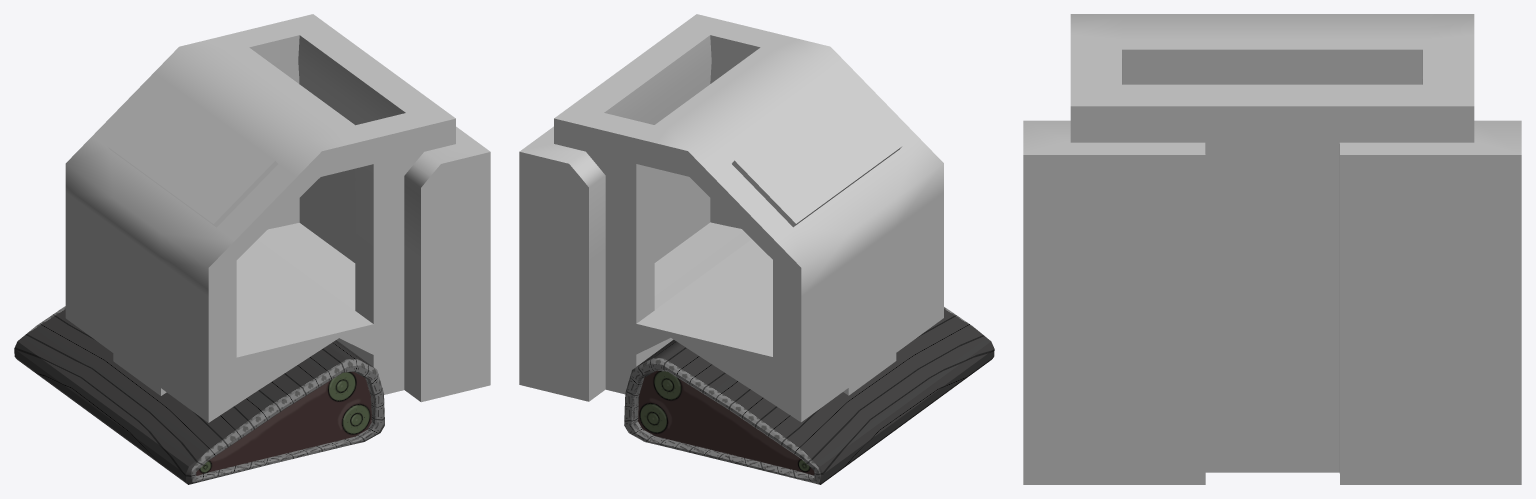
File: Print.fbx
3 views of the same model, side by side, from view 1: azimuth 30°, elevation 25°; view 2: azimuth 150°, elevation 25°; view 3: azimuth 270°, elevation 25° (orthographic). The views are drawn at different scales.
Parts seen in each view (by area): view 1: Orugas1; view 2: Orugas1; view 3: Orugas1.
Boxes of the visible parts, <box> form: Orugas1: <box>14,14,490,484</box>; Orugas1: <box>519,14,994,484</box>; Orugas1: <box>1023,14,1521,484</box>.
Size of the model in its own units: 1.22 by 1.11 by 1.23.
